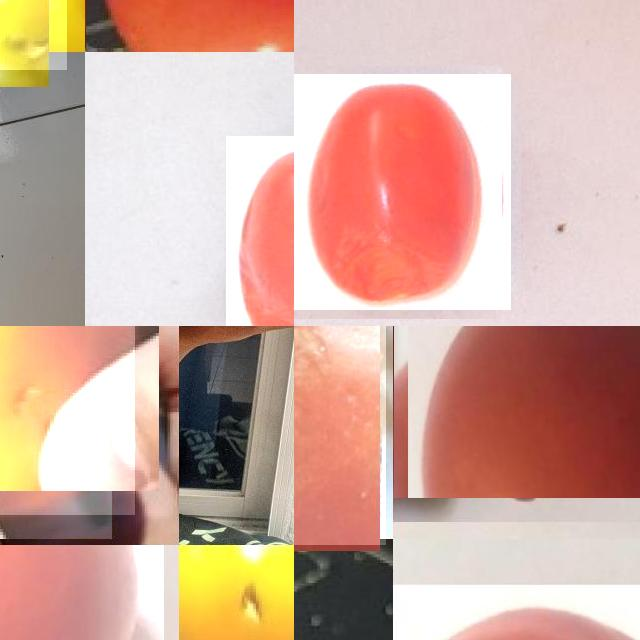0: (393, 326, 640, 498)
1: (294, 74, 511, 309), (294, 326, 386, 545)
Fresh Tomato: (0, 545, 164, 640)
Rotten Tomato: (0, 326, 135, 515), (226, 136, 294, 326), (179, 545, 294, 640)
